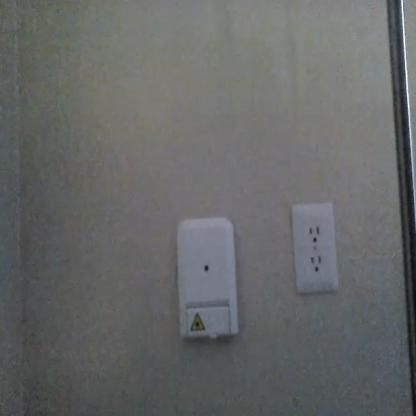OUTLET: (293, 204, 338, 290)
